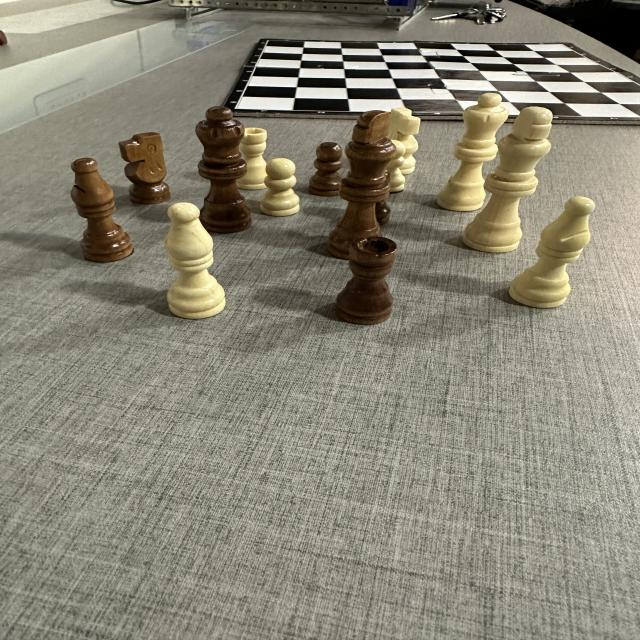Black-Bishop: (70, 157, 134, 263)
Black-King: (326, 110, 397, 260)
Black-Knight: (118, 132, 171, 205)
Black-Pawn: (307, 142, 343, 196)
Black-Queen: (194, 105, 252, 234)
Black-Rook: (335, 236, 397, 325)
White-Bishop: (508, 195, 595, 308), (166, 202, 226, 319)
White-King: (462, 107, 553, 253)
White-Knight: (388, 107, 421, 142)
White-Pawn: (259, 158, 301, 216), (389, 139, 406, 193)
White-Queen: (436, 92, 509, 212)
White-Rook: (238, 128, 268, 190)
